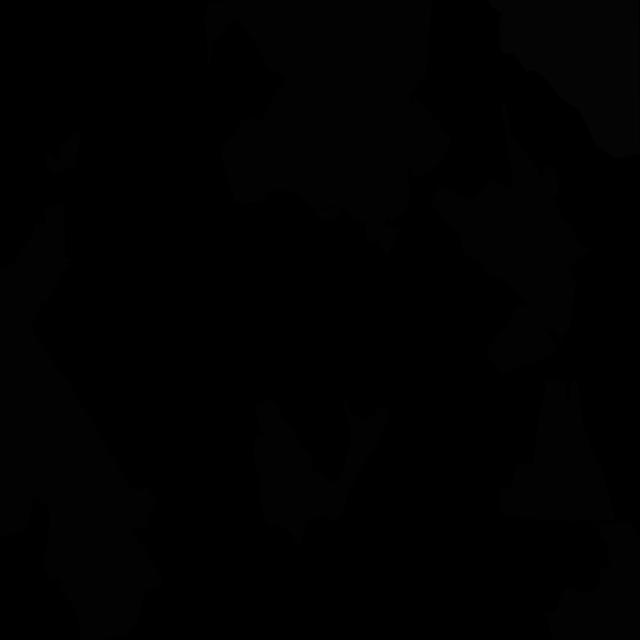cardboard: (0, 204, 162, 640), (220, 70, 417, 223), (204, 0, 432, 108), (430, 179, 577, 342), (253, 398, 391, 545), (500, 380, 616, 522), (501, 103, 590, 268), (545, 520, 640, 640), (484, 304, 559, 374), (314, 200, 401, 259), (403, 98, 452, 176), (386, 153, 410, 223), (46, 131, 80, 175)
soft_plastic: (488, 0, 640, 158)
